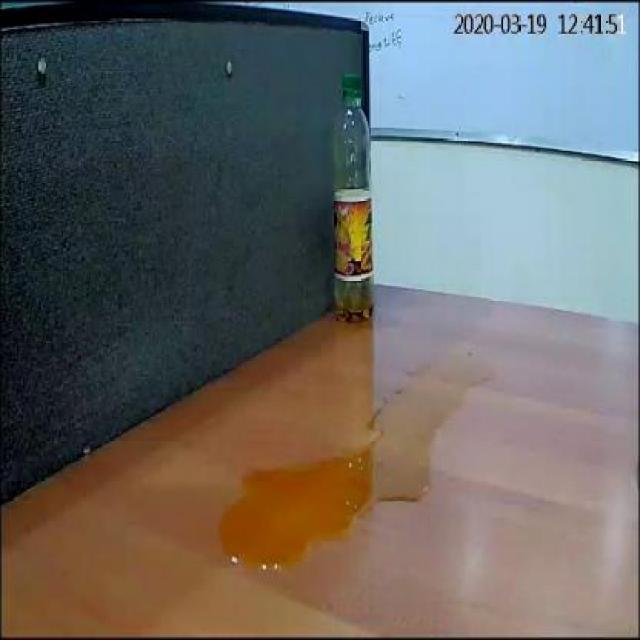spill: (218, 346, 497, 571)
